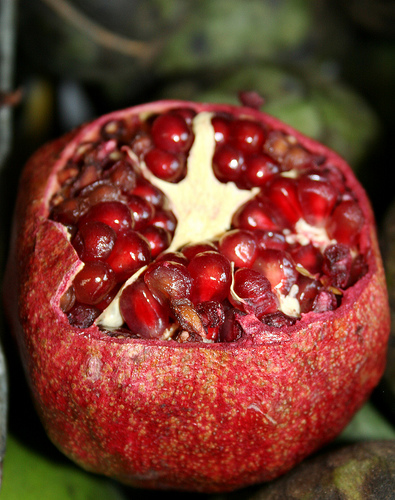pomogranate: (10, 97, 390, 488)
